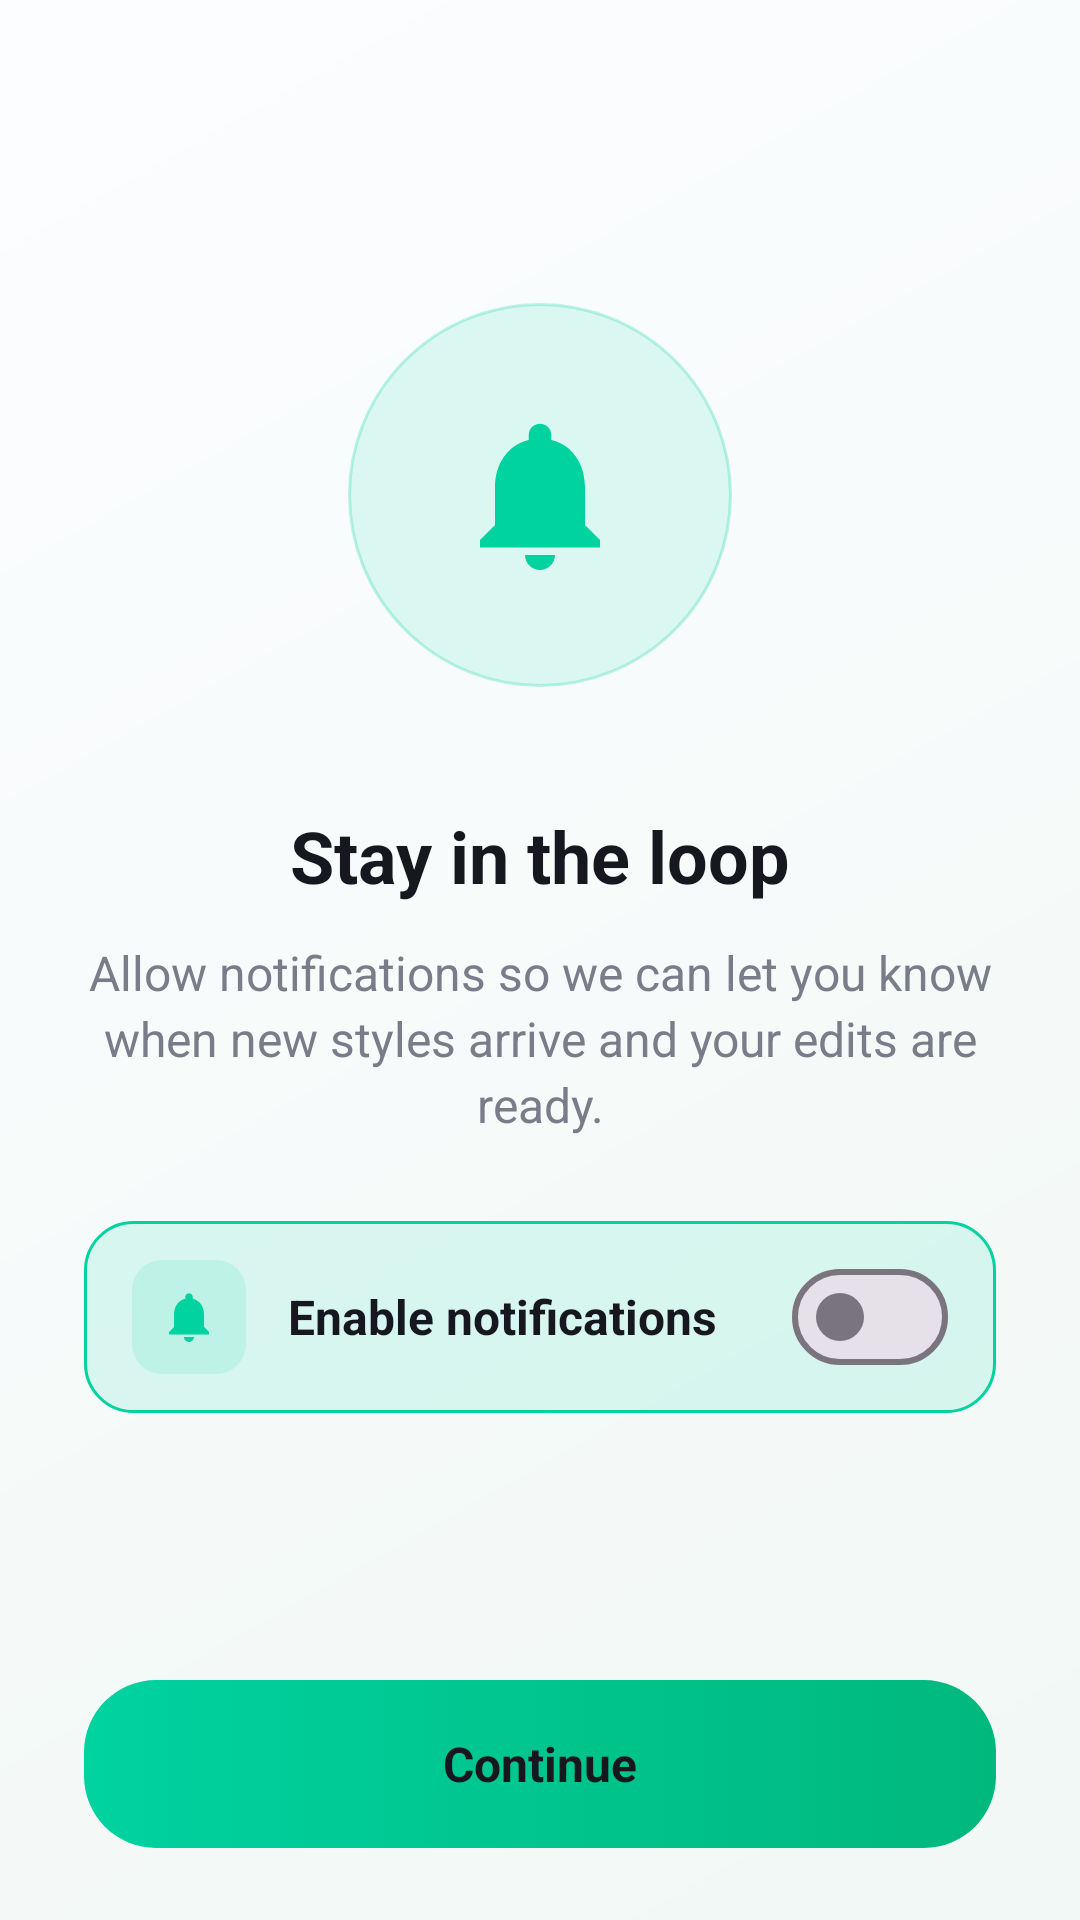

Named icons in this screenshot (1080 × 1920) and their centers, (x=x, y=y):
bell: (x=540, y=496), (x=189, y=1317)
